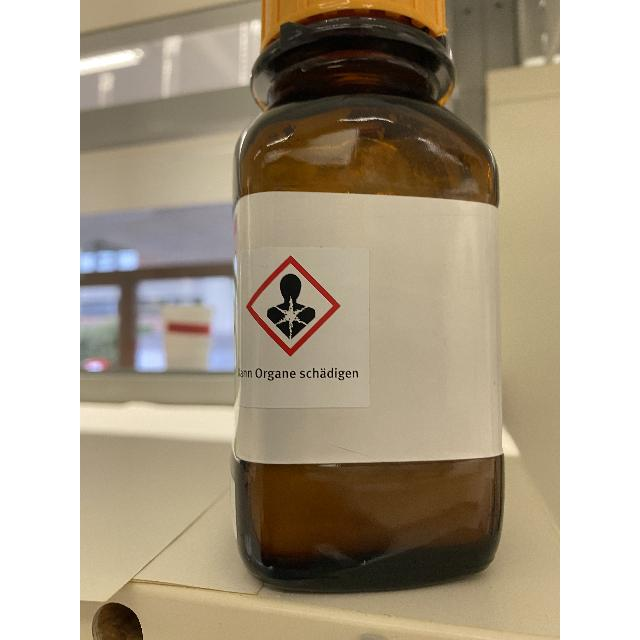serious health hazard: (246, 255, 342, 357)
